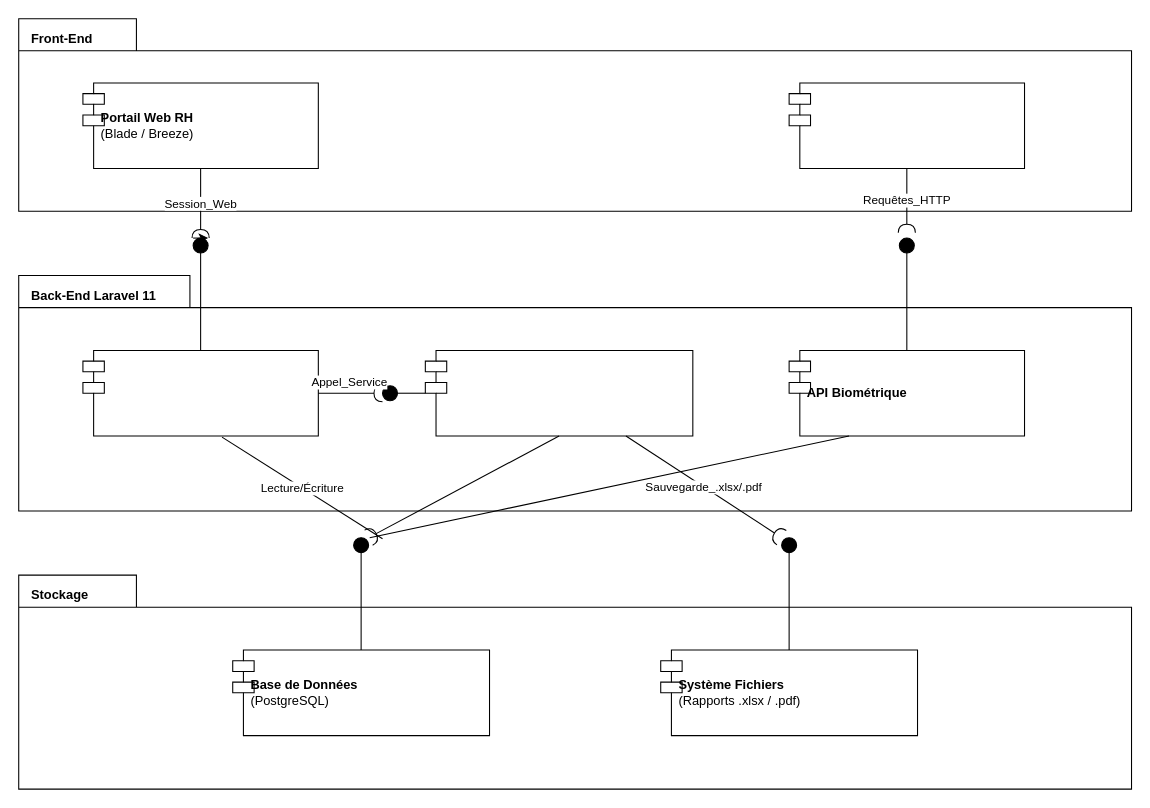
This 1150x808 diagram has some shape labels left out. Here are the shapes that lost their labels. From the top down, the centre of each, then its label:
At (906,125): "Borne Kiosk (JS / CSS)".
At (200,392): "Contrôleurs RH".
At (558,392): "Moteur d'Export (PhpSpreadsheet & Dompdf)".
